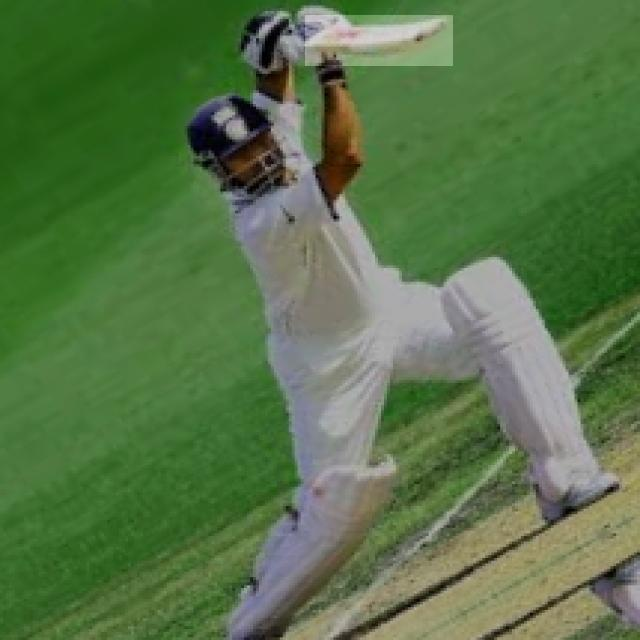bat: (305, 15, 452, 66)
toe: (403, 14, 455, 54)
